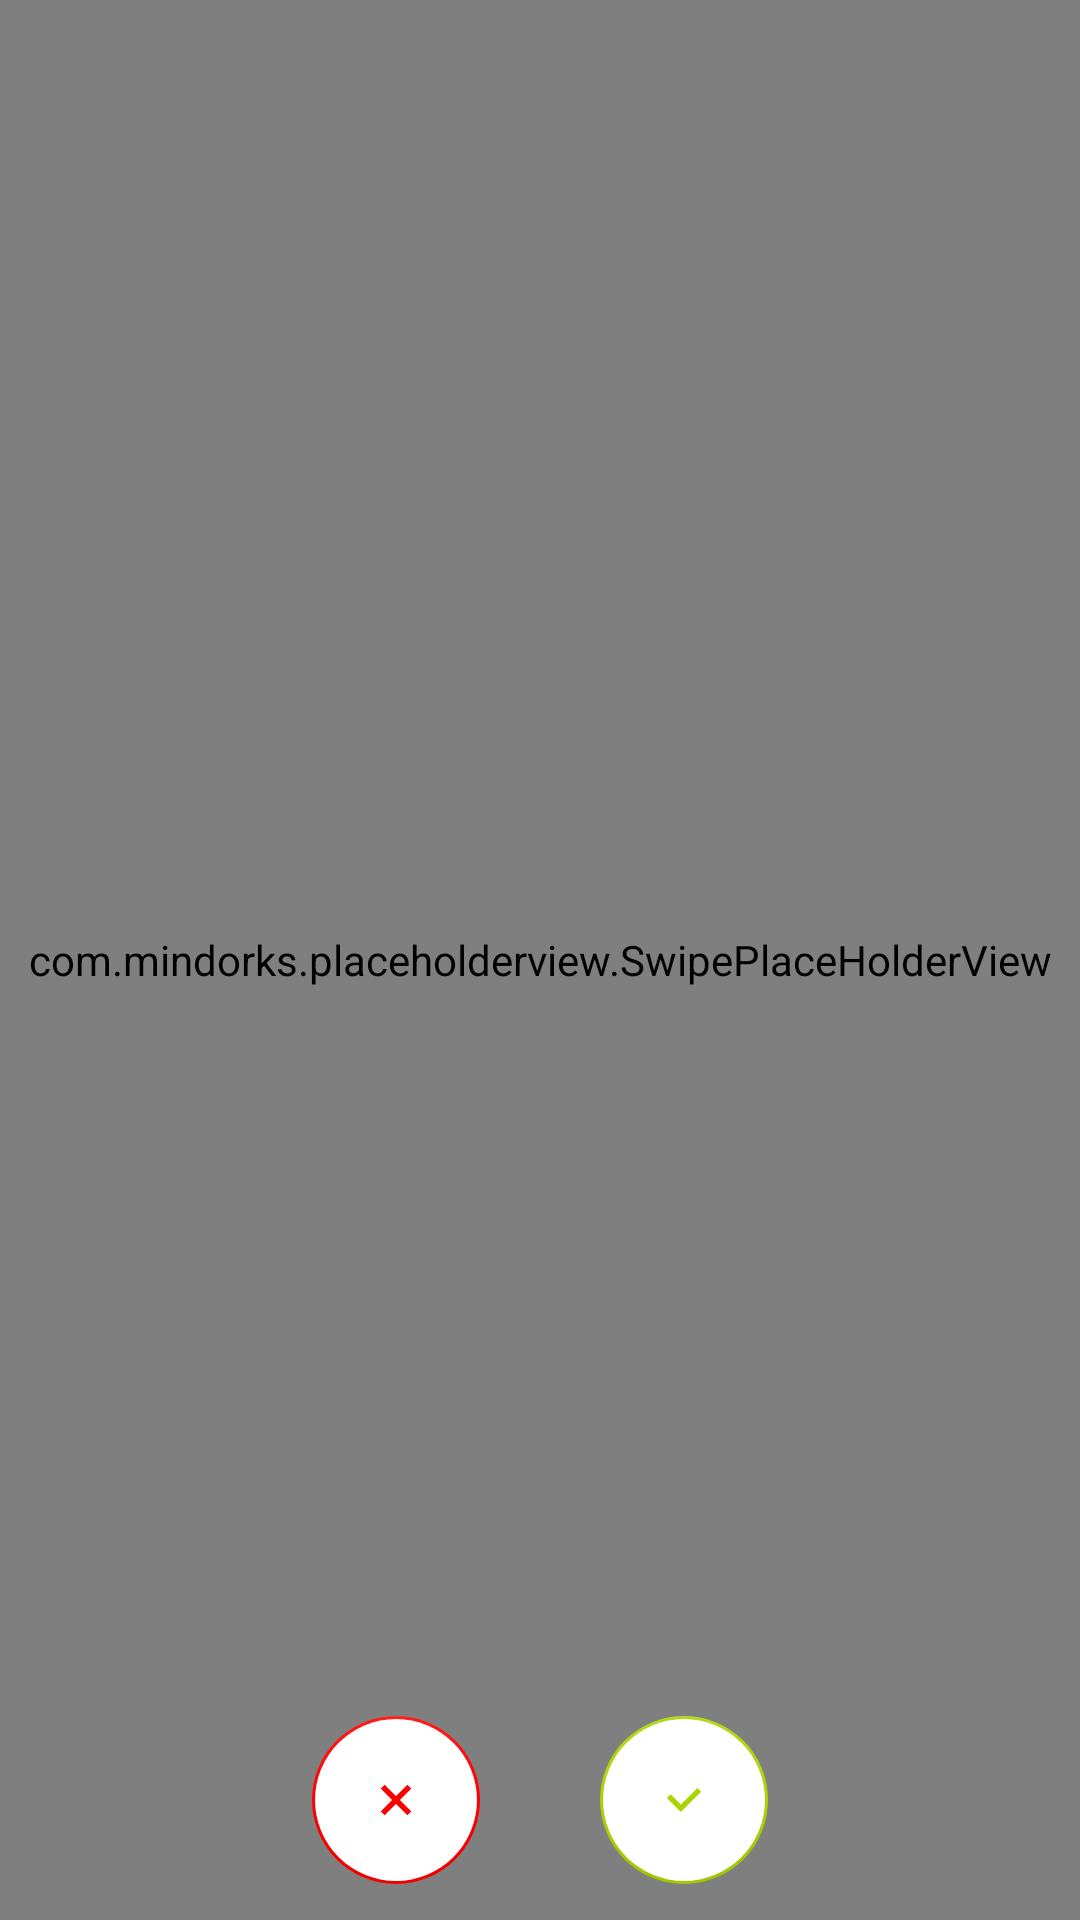

Icon click points for this 1080px x 1920px phone screenshot, format point (x, y):
apply: point (684, 1800)
ignore: point (396, 1800)
